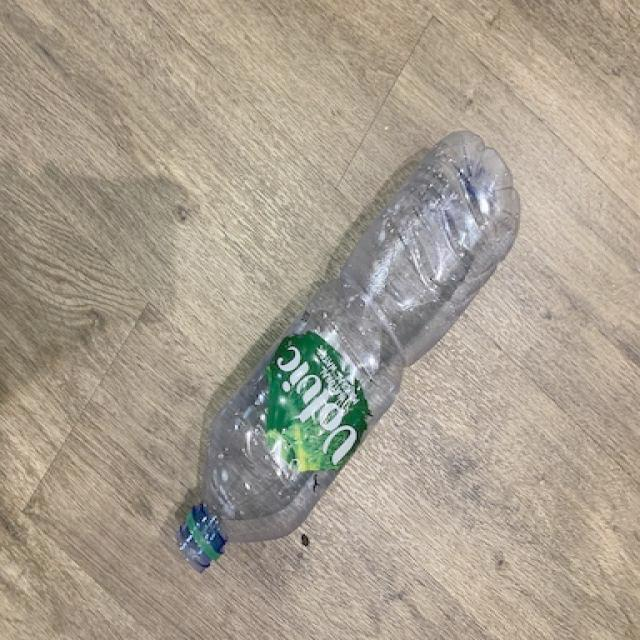bottle: (174, 130, 521, 574)
